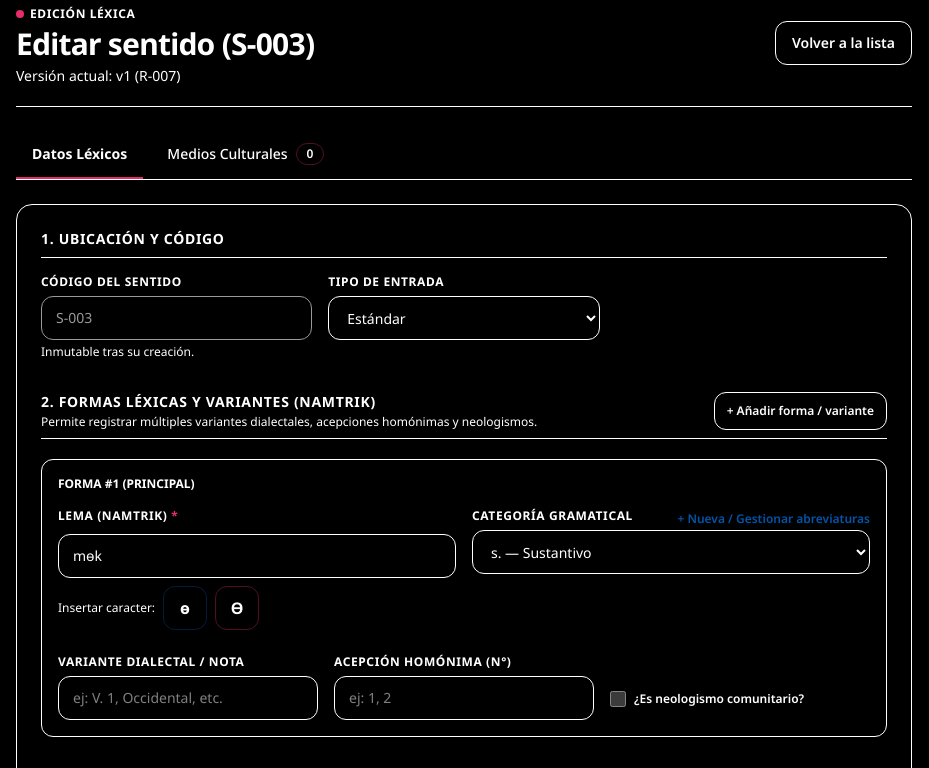
SentidoEditorPage (T-044, R-007, R-008, R-010, R-022) › en modo edición permite alternar a la pestaña de Medios Culturales (R-014, T-037)
The width and height of the screenshot is (929, 768).
Click the tab "Medios Culturales 0". click: [246, 155]
box: [151, 131, 340, 179]
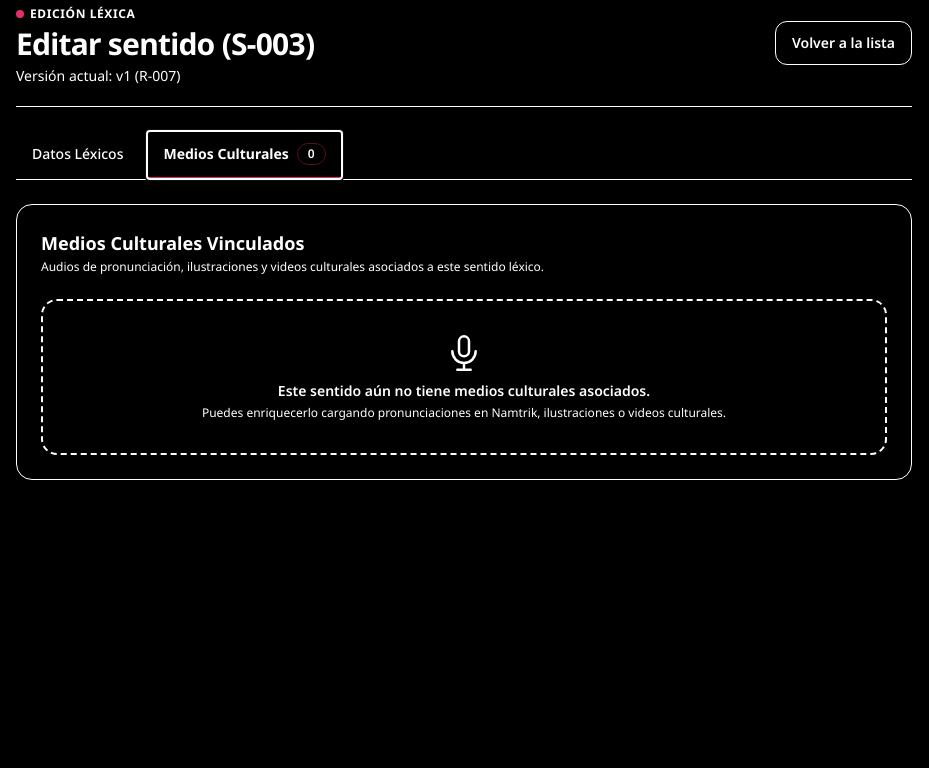
Check: the heading "Medios Culturales Vinculados" is shown, box [41, 231, 304, 255]
